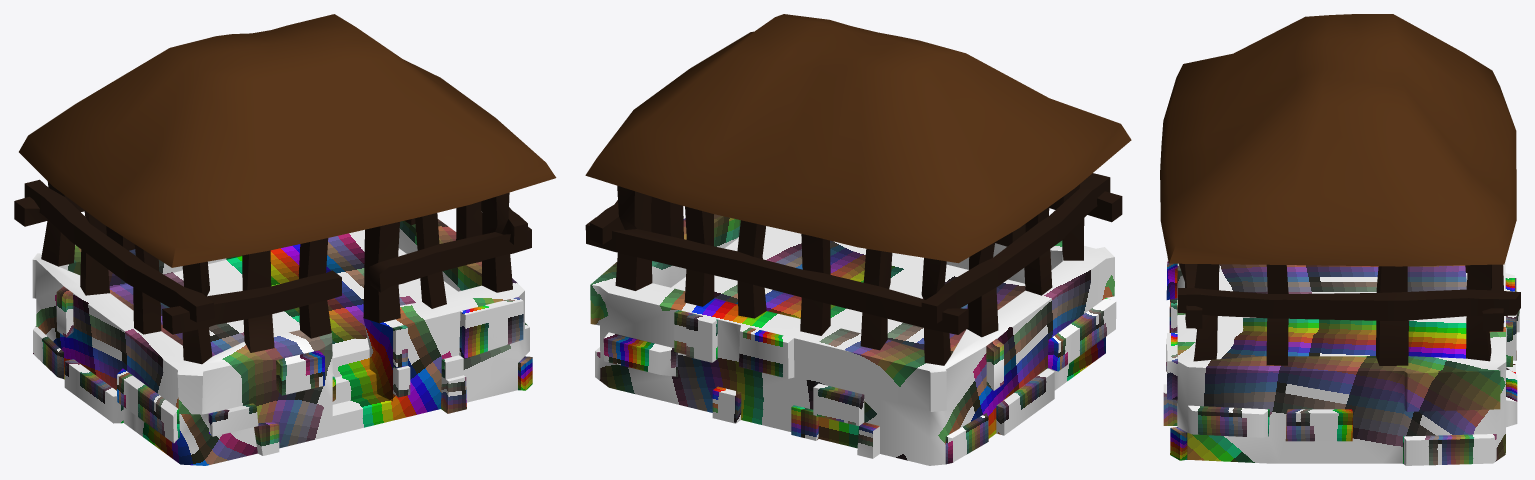
The model's file is NativeHouse1.fbx.
The picture shows the model from 3 angles, left to right: view 1: azimuth 30°, elevation 25°; view 2: azimuth 150°, elevation 25°; view 3: azimuth 270°, elevation 25°; orthographic projection. The views are drawn at different scales.
Visible parts, largest first — view 1: NativeHouse1.001; view 2: NativeHouse1.001; view 3: NativeHouse1.001.
Part boxes in pixels (left/top/right/bottom): NativeHouse1.001: left=14, top=14, right=556, bottom=465; NativeHouse1.001: left=585, top=14, right=1131, bottom=465; NativeHouse1.001: left=1160, top=14, right=1520, bottom=465.
Size of the model in its own units: 220 by 173 by 175.
